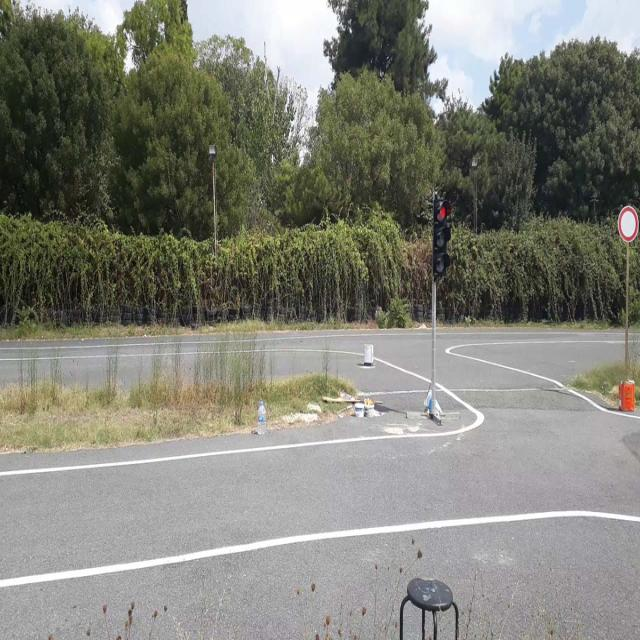kirmizi: (433, 198, 447, 276)
